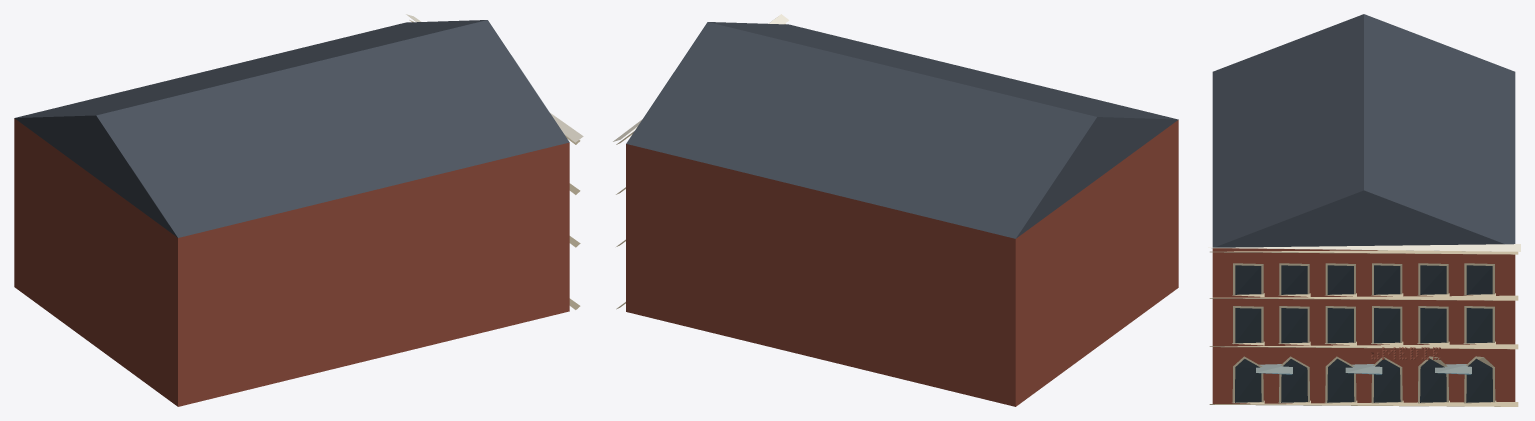
File: kleine-komedie.lod1.glb
3 views of the same model, side by side, from view 1: azimuth 30°, elevation 25°; view 2: azimuth 150°, elevation 25°; view 3: azimuth 270°, elevation 25° (orthographic). The views are drawn at different scales.
Visible parts, largest first — view 1: kleine-komedie; view 2: kleine-komedie; view 3: kleine-komedie.
Part boxes in pixels (left/top/right/bottom): kleine-komedie: left=14, top=14, right=583, bottom=406; kleine-komedie: left=613, top=14, right=1178, bottom=406; kleine-komedie: left=1208, top=14, right=1520, bottom=406.
Bounding box in the file's own units: 34.67 × 18.5 × 24.62.
